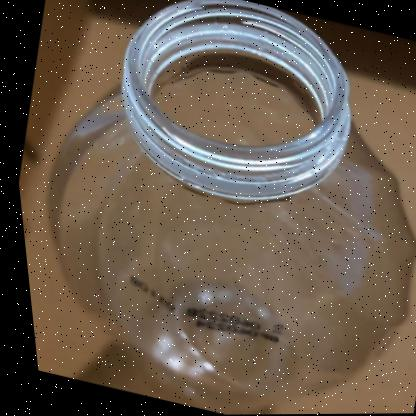open bottle: (1, 1, 416, 382)
